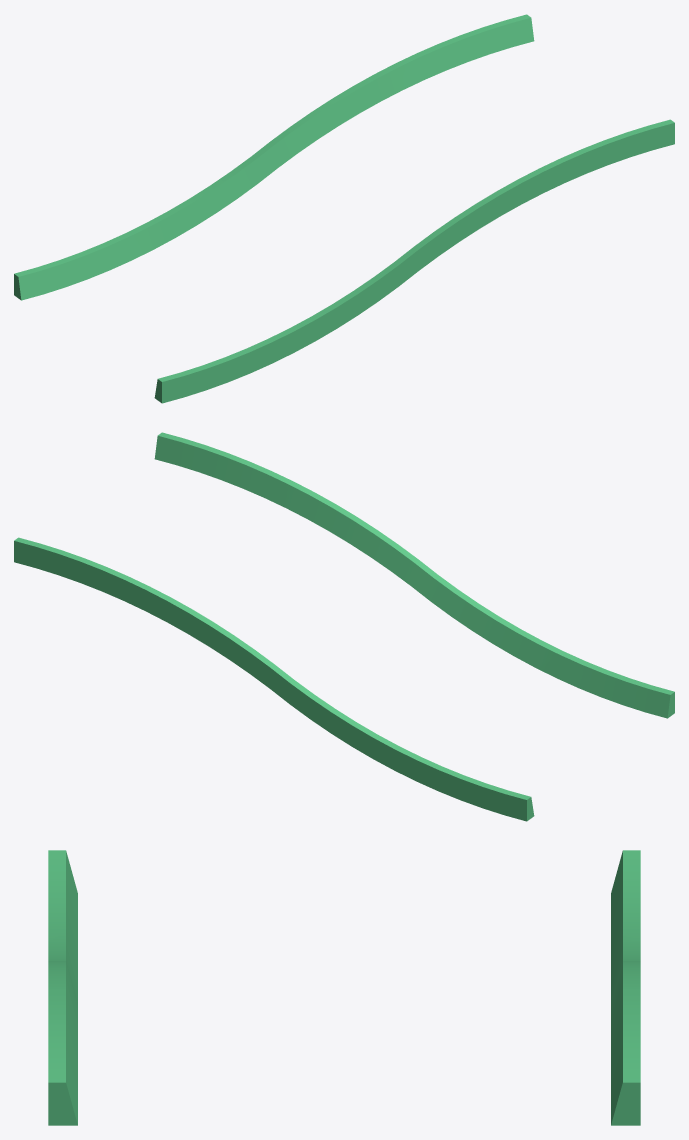
Rendered from road_slant_curve_barrier.glb.
The picture shows the model from 3 angles, top to bottom: view 1: azimuth 30°, elevation 25°; view 2: azimuth 150°, elevation 25°; view 3: azimuth 270°, elevation 25°; orthographic projection. The views are drawn at different scales.
Visible parts, largest first — view 1: road-slant-curve-barrier; view 2: road-slant-curve-barrier; view 3: road-slant-curve-barrier.
Boxes of the visible parts, x1,y1,x2,y2 form: road-slant-curve-barrier: (14,14,674,403); road-slant-curve-barrier: (14,432,674,821); road-slant-curve-barrier: (48,850,640,1125).
Size of the model in its own units: 2 by 0.58 by 1.
Materials: 1 (1 with a texture image).
